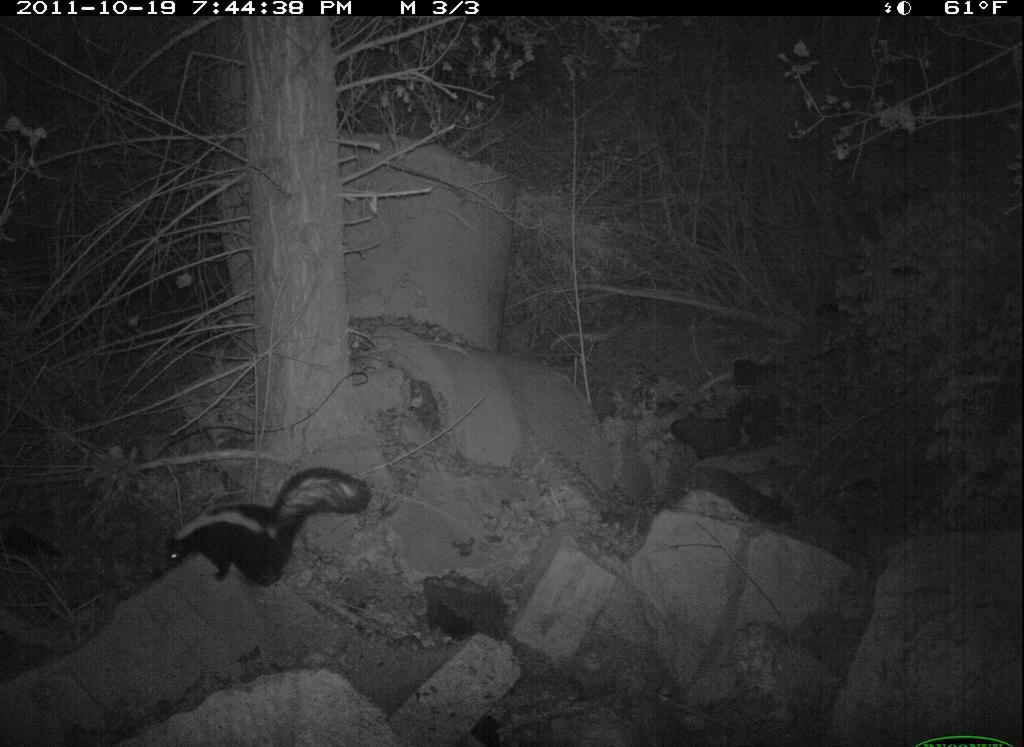skunk: (163, 465, 381, 591)
